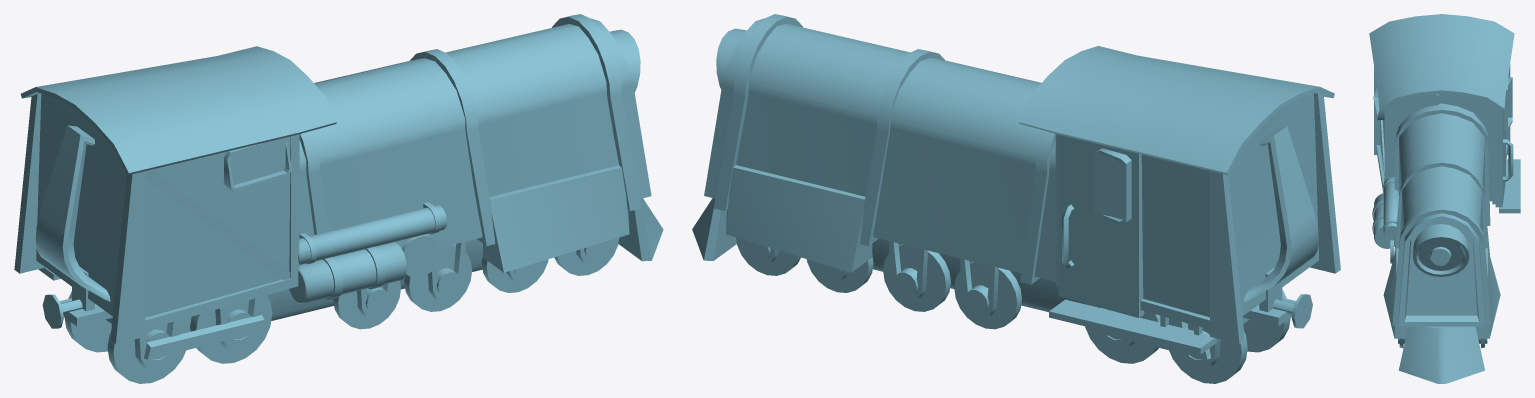
Rendered from Train_Locomotive.fbx.
The picture shows the model from 3 angles, left to right: view 1: azimuth 30°, elevation 25°; view 2: azimuth 150°, elevation 25°; view 3: azimuth 270°, elevation 25°; orthographic projection. The views are drawn at different scales.
Visible parts, largest first — view 1: Train_Locomotive; view 2: Train_Locomotive; view 3: Train_Locomotive.
Part boxes in pixels (x1=…): Train_Locomotive: x1=14, y1=14, x2=663, y2=383; Train_Locomotive: x1=692, y1=14, x2=1340, y2=383; Train_Locomotive: x1=1369, y1=14, x2=1520, y2=383.
Size of the model in its own units: 883 by 378 by 283.
